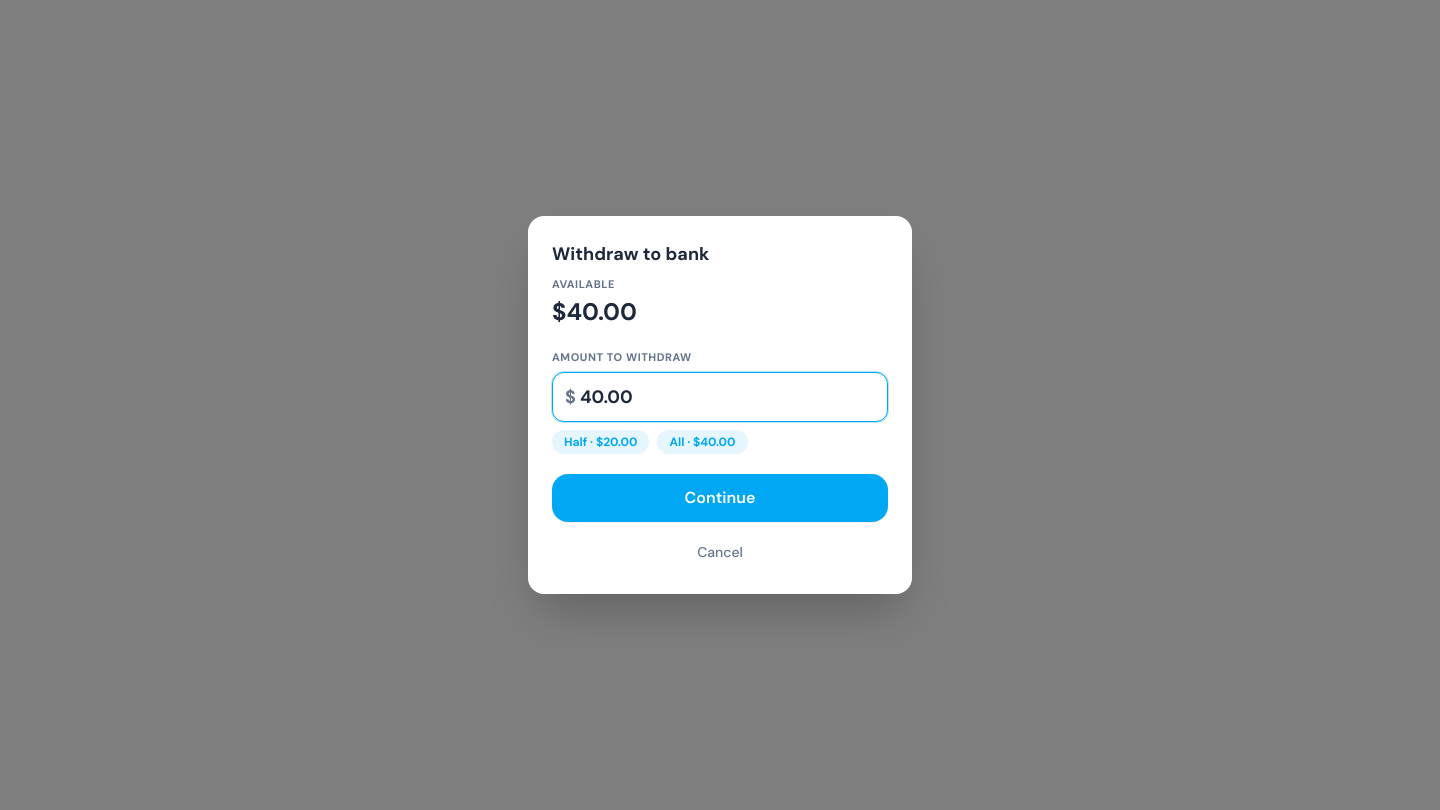
Test case: WithdrawSheet (F5) › Half pill sets the amount to half the balance
Click the button with test id "withdraw-sheet-pill-half" at [601, 442], box x1=552 y1=430 x2=650 y2=454
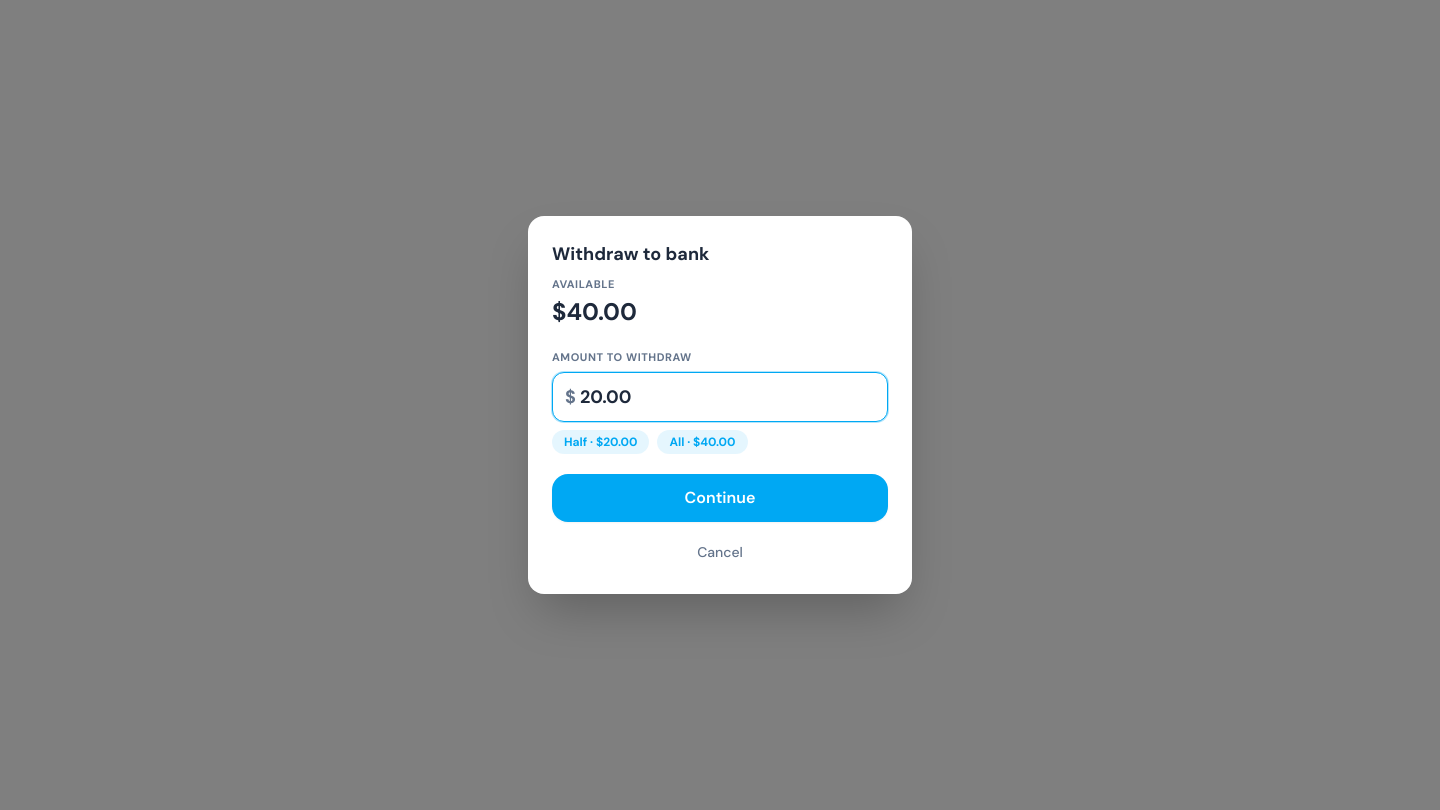
Expected: the field with test id "withdraw-sheet-amount-input" holds "20.00", x1=580 y1=383 x2=875 y2=411
